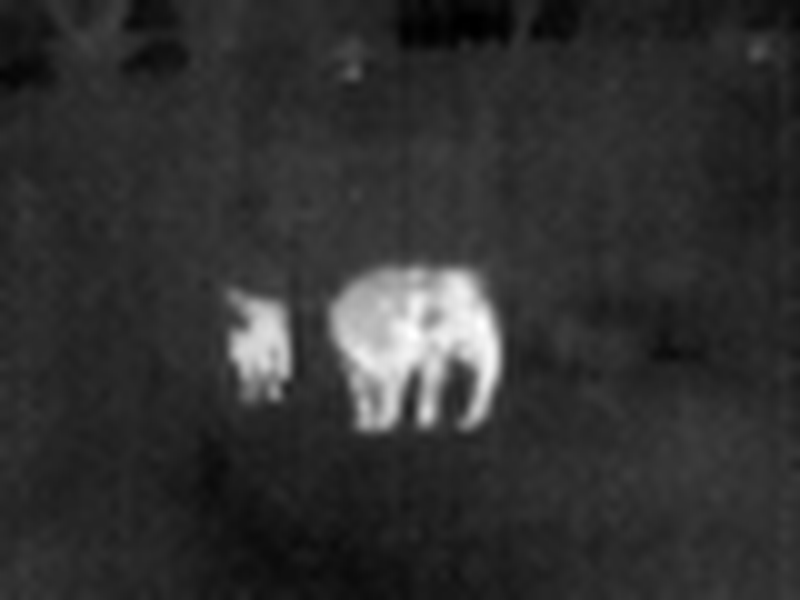elephant: (308, 265, 493, 442)
